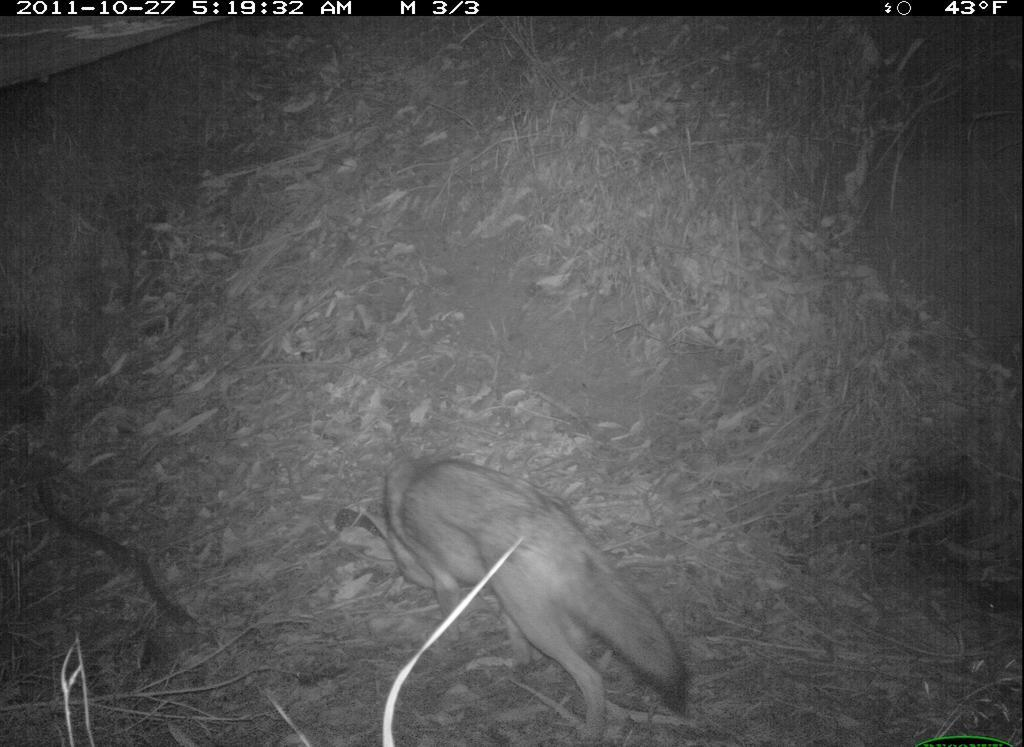coyote: (327, 445, 705, 737)
